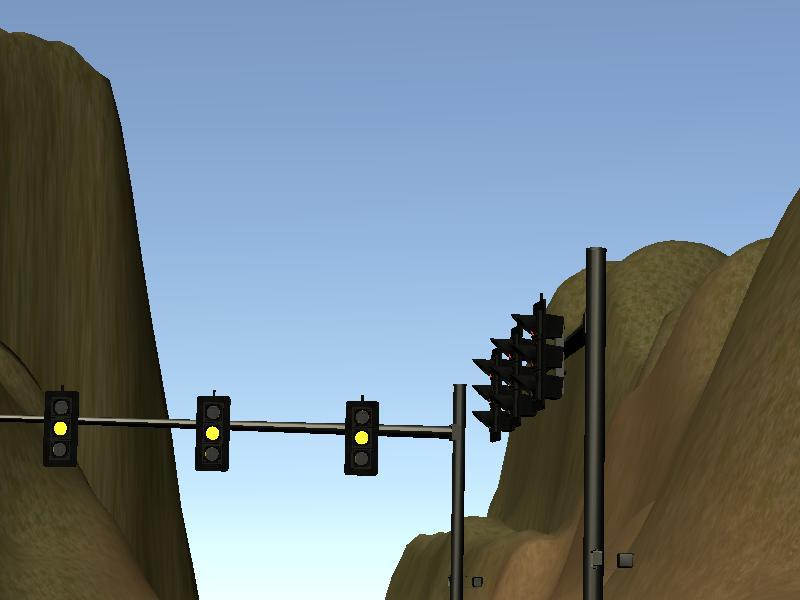Yellow: (43, 391, 79, 468), (343, 400, 379, 477), (194, 395, 230, 472)
